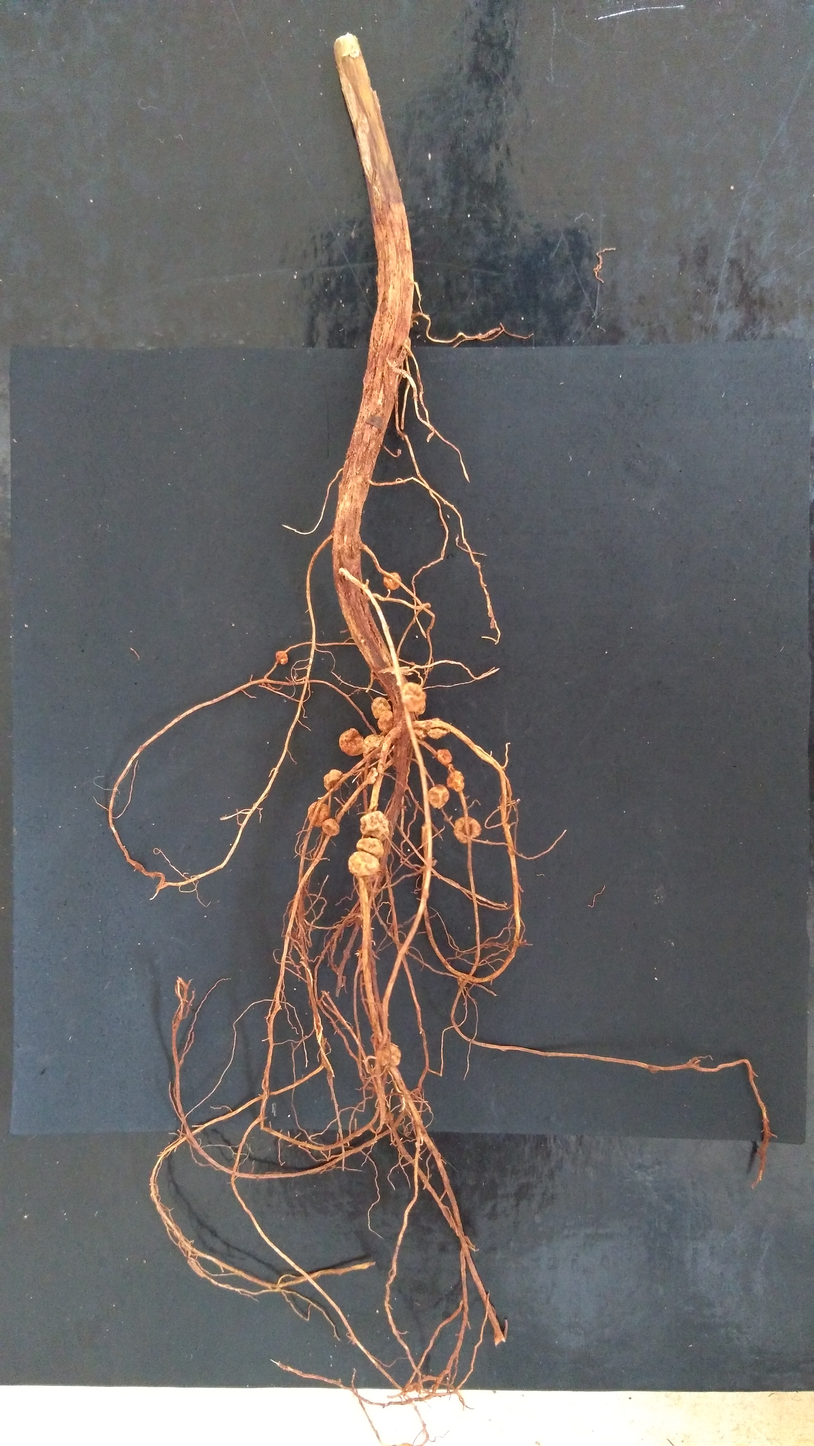nodule: (348, 850, 380, 883), (358, 810, 390, 842), (371, 697, 394, 734), (401, 681, 426, 715), (414, 718, 451, 740), (454, 816, 482, 844), (362, 734, 394, 758), (338, 728, 363, 756), (355, 837, 384, 860), (307, 801, 331, 827), (427, 783, 450, 810), (376, 1044, 401, 1068), (445, 770, 464, 792), (323, 769, 342, 791), (321, 817, 340, 836), (383, 572, 401, 590), (436, 749, 453, 766), (275, 650, 288, 666), (366, 767, 378, 784), (382, 1109, 395, 1124), (402, 337, 411, 355), (457, 974, 468, 985)
